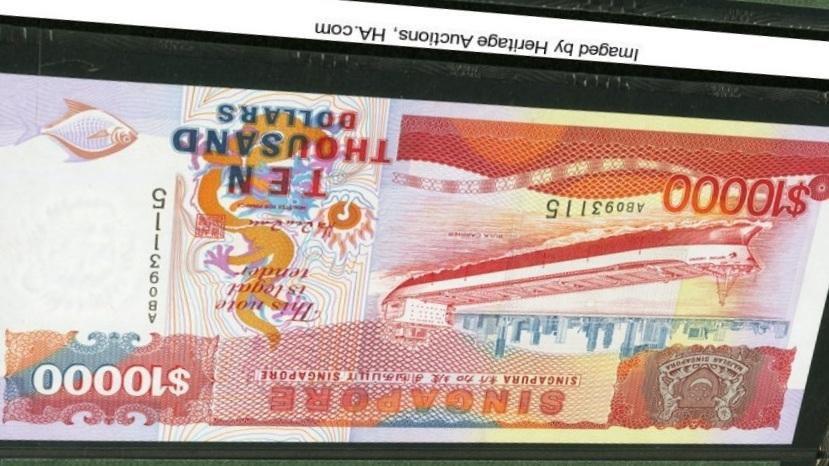10000SingaporeDollar: (0, 104, 829, 439)
